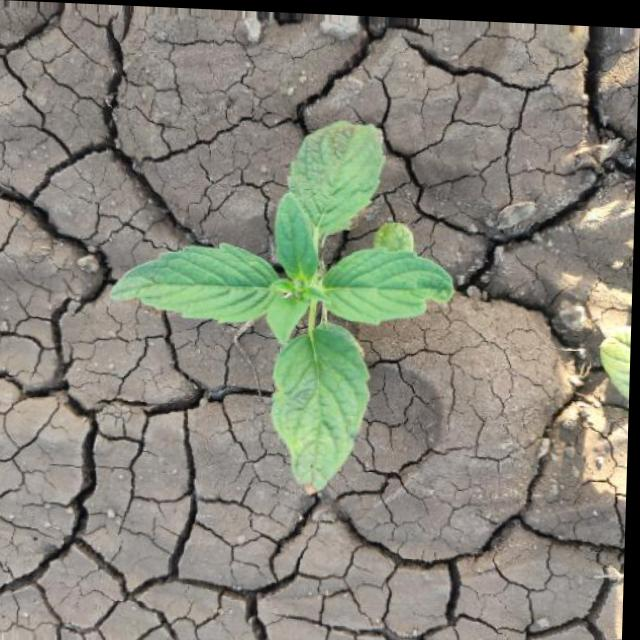crop: (99, 104, 463, 500)
